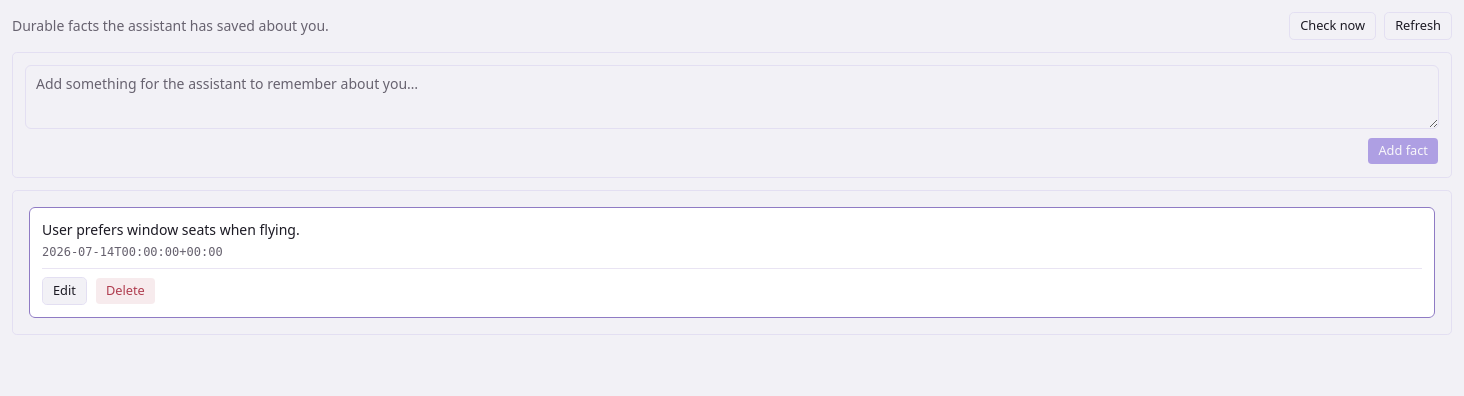
Scenario: MemoryPanel › cancelling an edit leaves the original content in place
Expected: the text "User prefers window seats when flying." is shown, [42, 220, 300, 239]
Click the button "Edit" at coordinates (64, 291), box [42, 277, 87, 305]
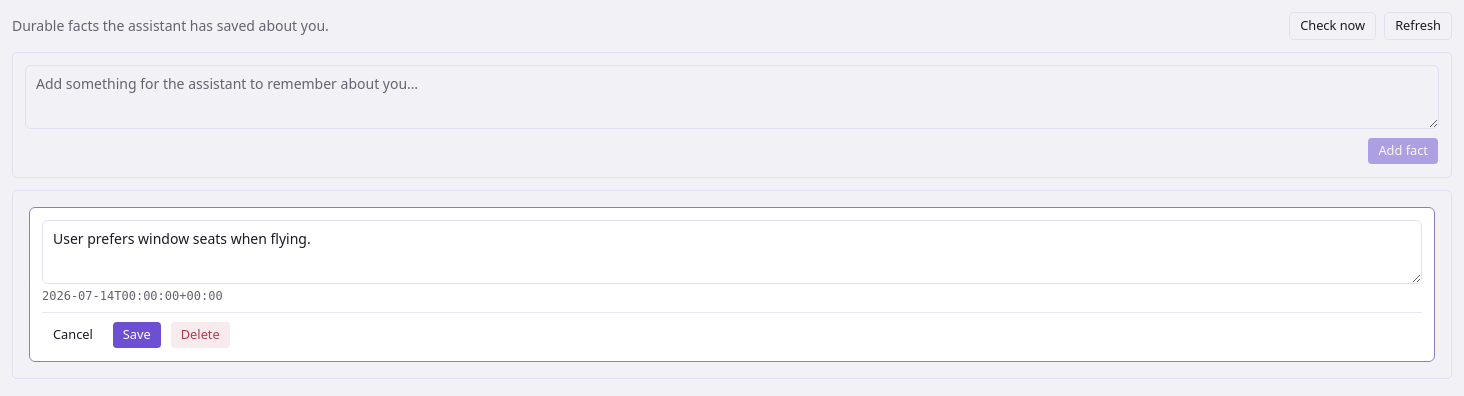
Replace the text in the text box with test id "edit-fact-input" with "something else entirely" at coordinates (732, 252), box [42, 220, 1422, 284]
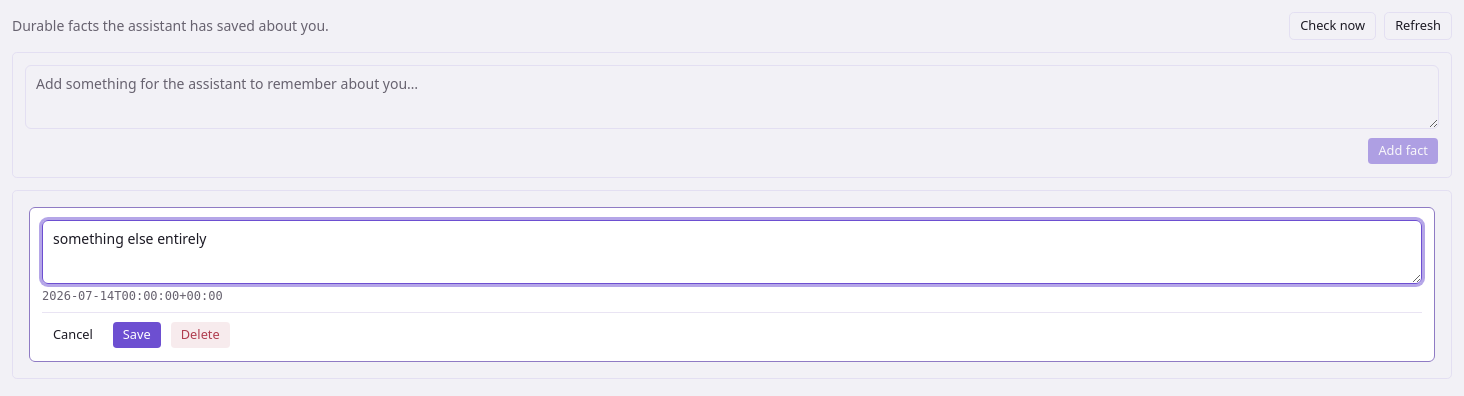
Click the button "Cancel" at coordinates (73, 335), box [42, 321, 104, 349]
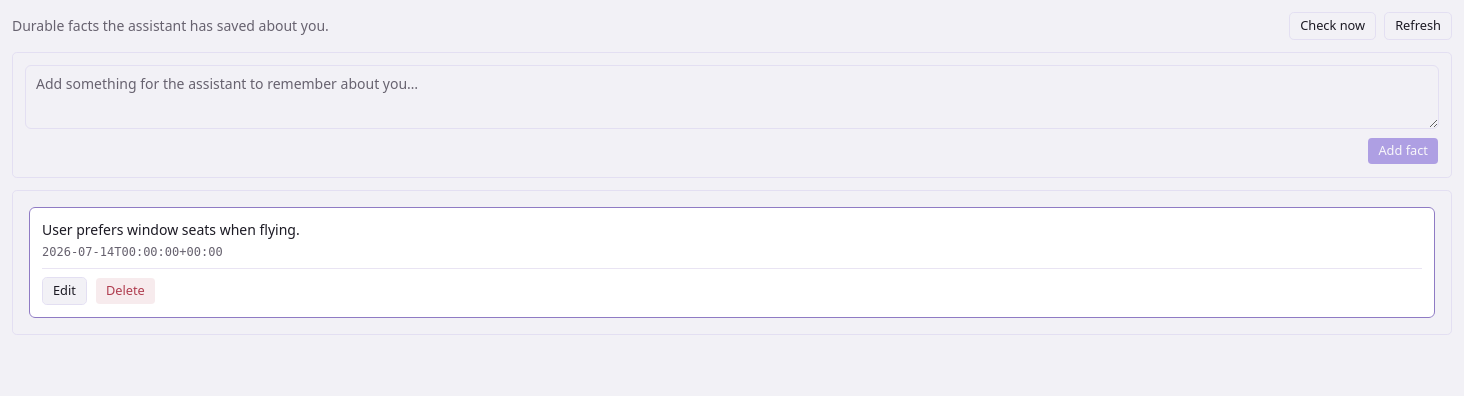
Result: the text "User prefers window seats when flying." is shown at [42, 220, 300, 239]
